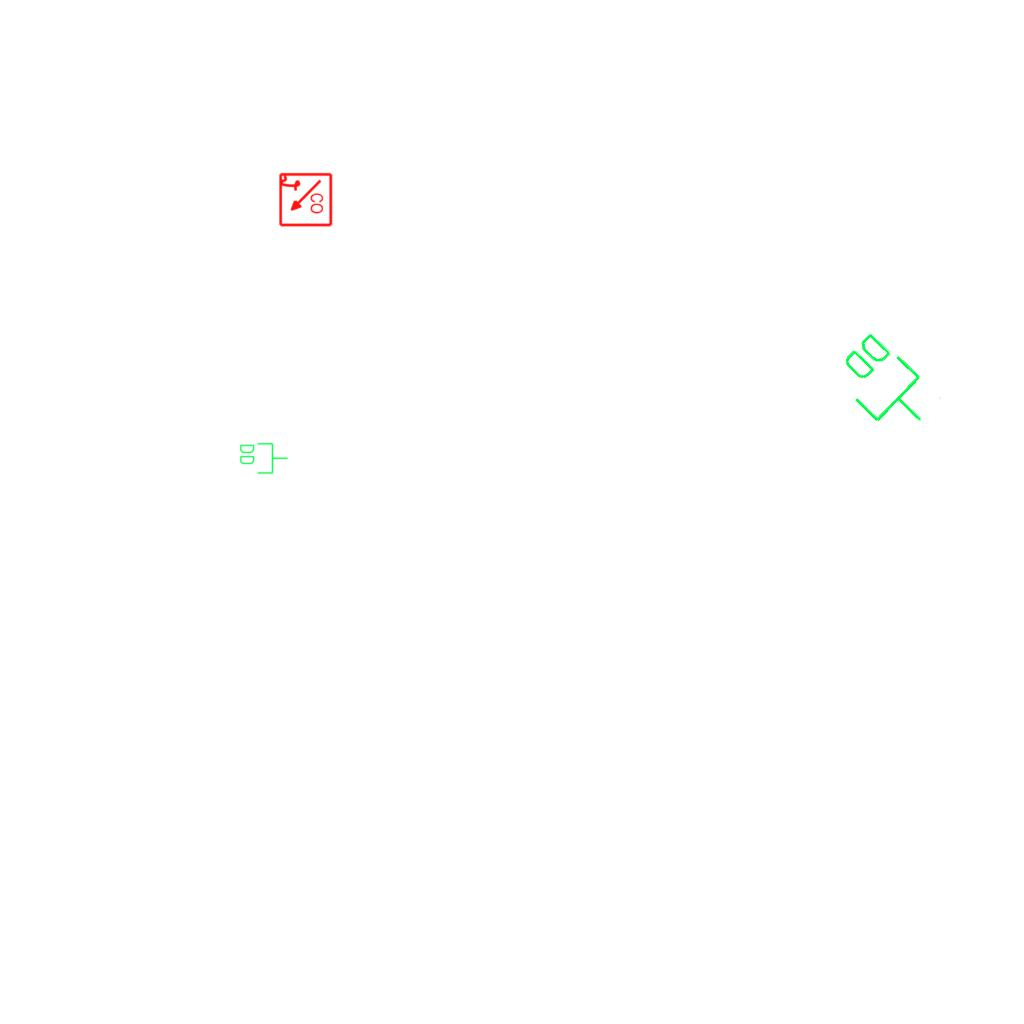Datenanschluss_zweifach: (824, 324, 947, 447), (238, 441, 289, 475)
ROA_Rauchmelder_optisch_mit_Signalgeber_(Sockelsirene): (277, 172, 333, 228)
